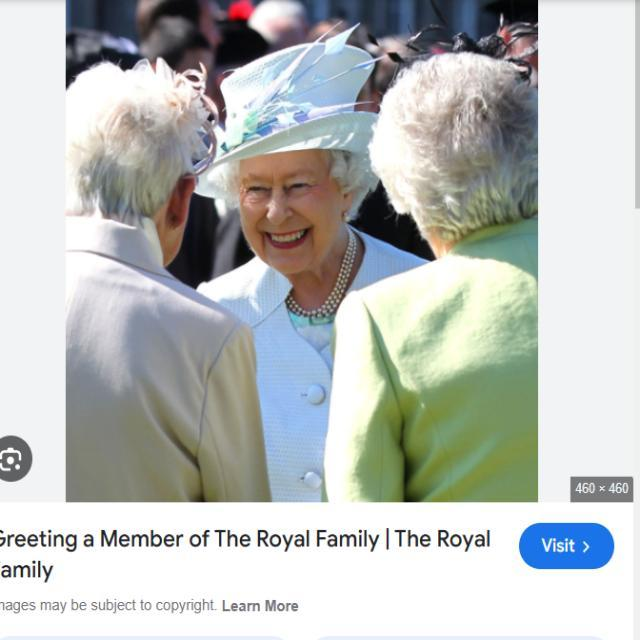face_no_mask: (236, 145, 352, 274)
